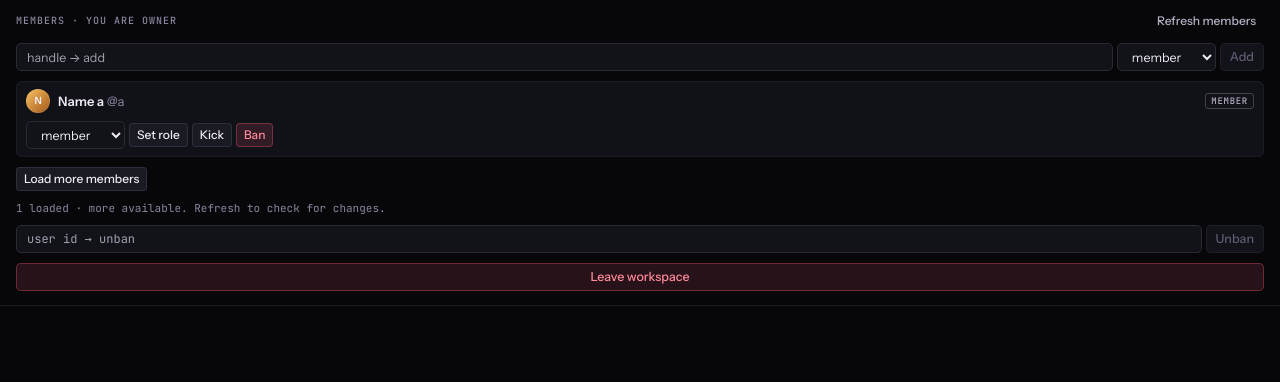
Scenario: pages by returned cursor, shows partial count and retries a failed page without losing earlier members
Step 1. Click the button "Load more members" → (82,179), box [16,167,147,191]
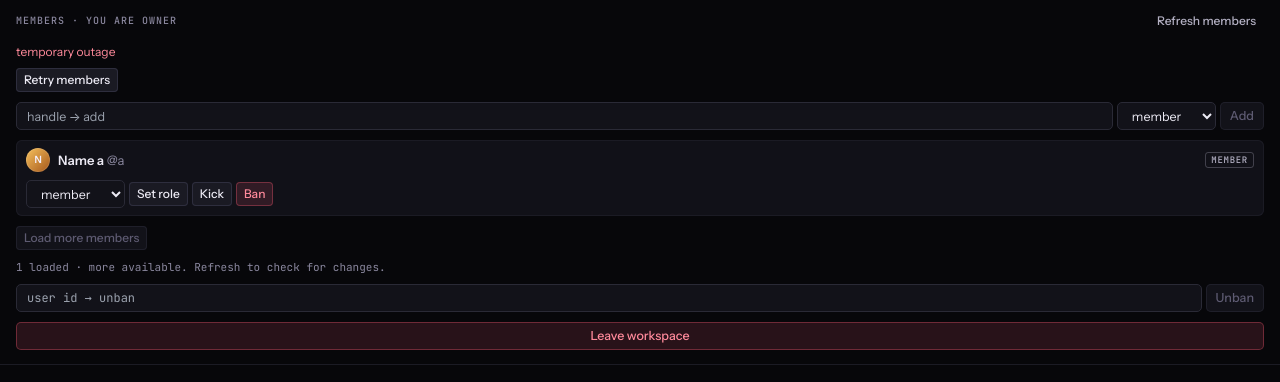
Check: the text "temporary outage" is shown, box [16,43,115,60]
Check: the button "Retry members" is shown
Step 2. Click the button "Retry members" → (67,80), box [16,68,118,92]
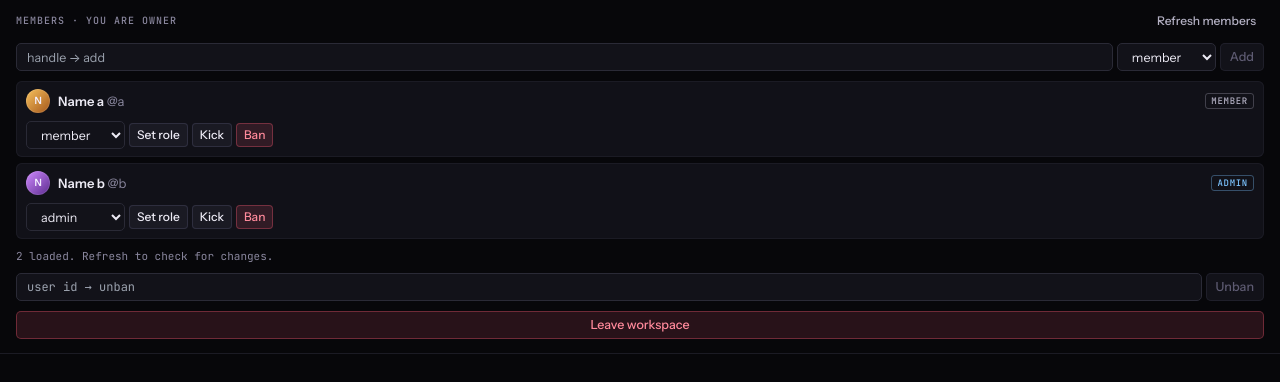
Check: the text "2 loaded." is shown, box [16,249,273,263]
Check: the text "Load more members" is gone
